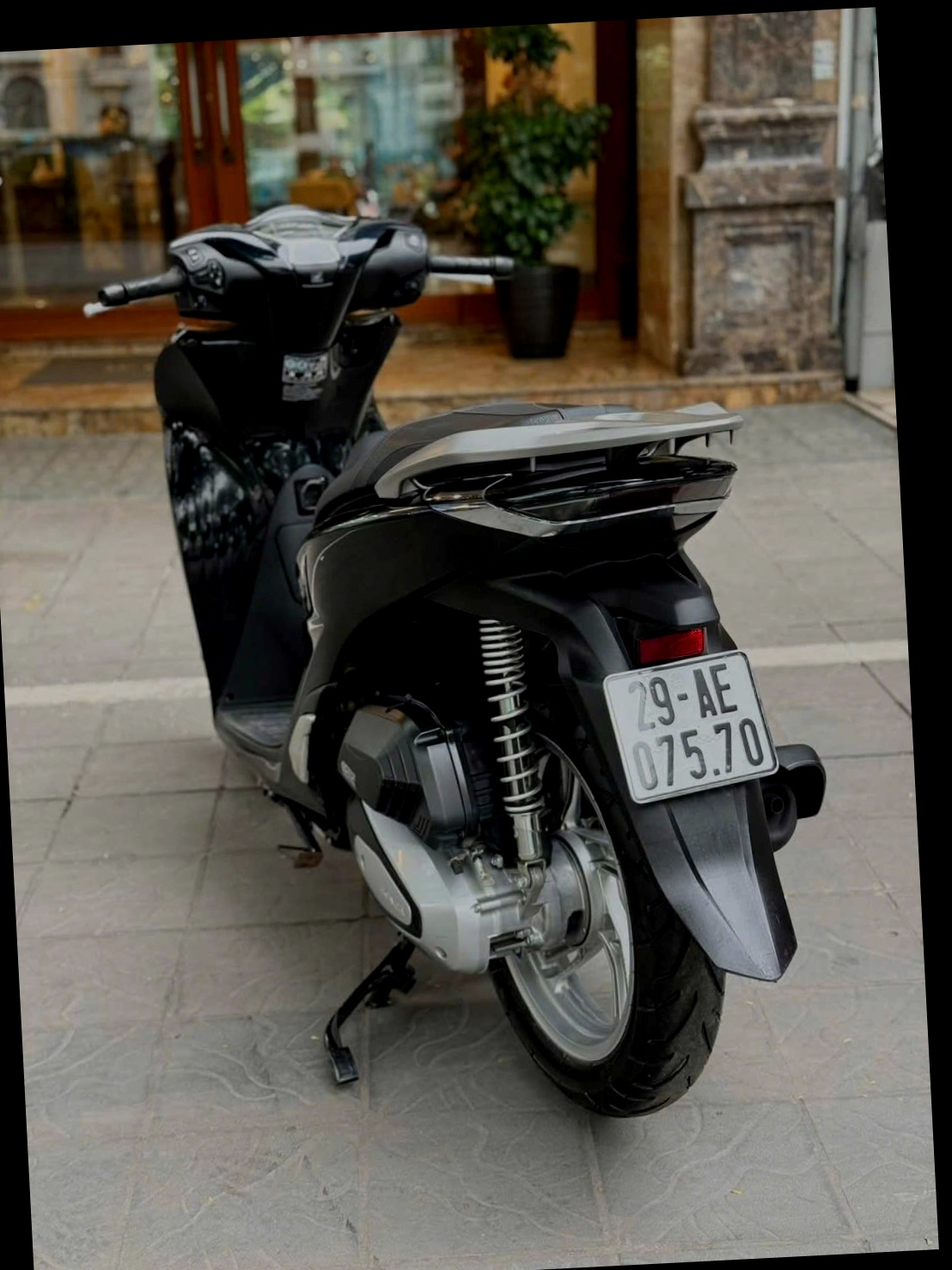Bien-so: (596, 632, 785, 798)
